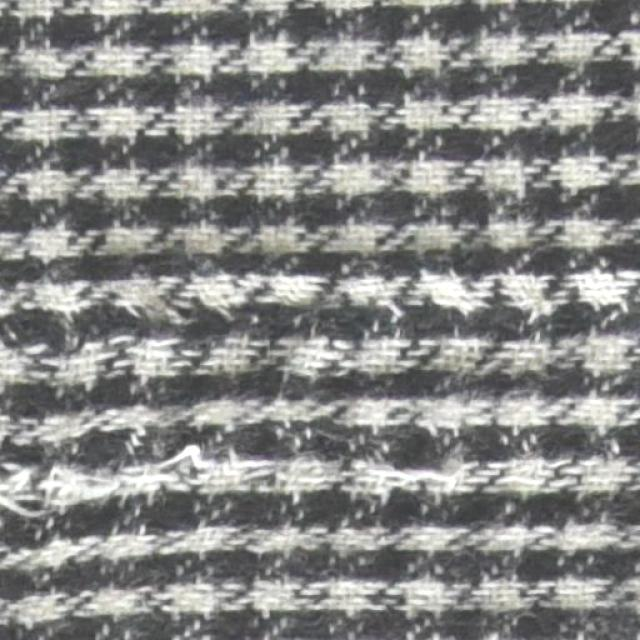Snag: (0, 423, 217, 549)
